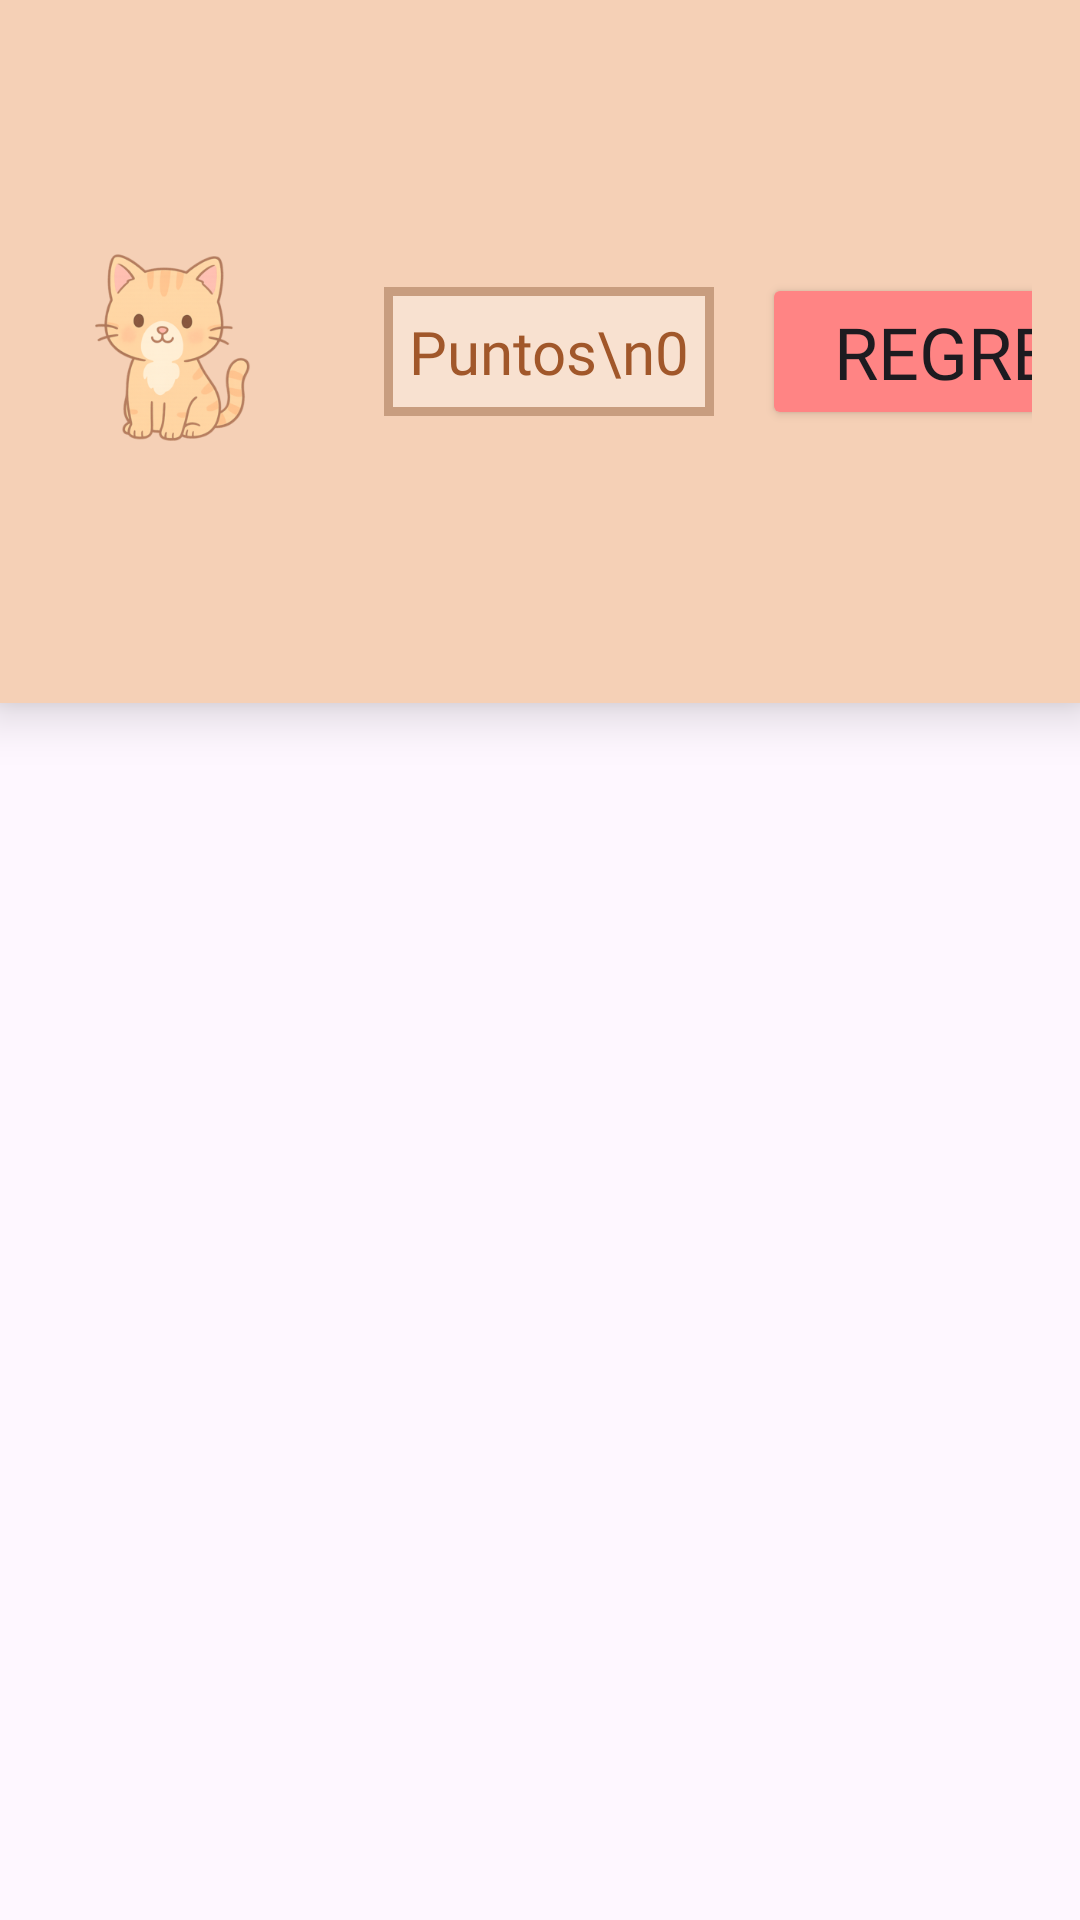

Named icons in this screenshot (1080 × 1920) and their centers, point (x, y):
gato: point (172, 347)
